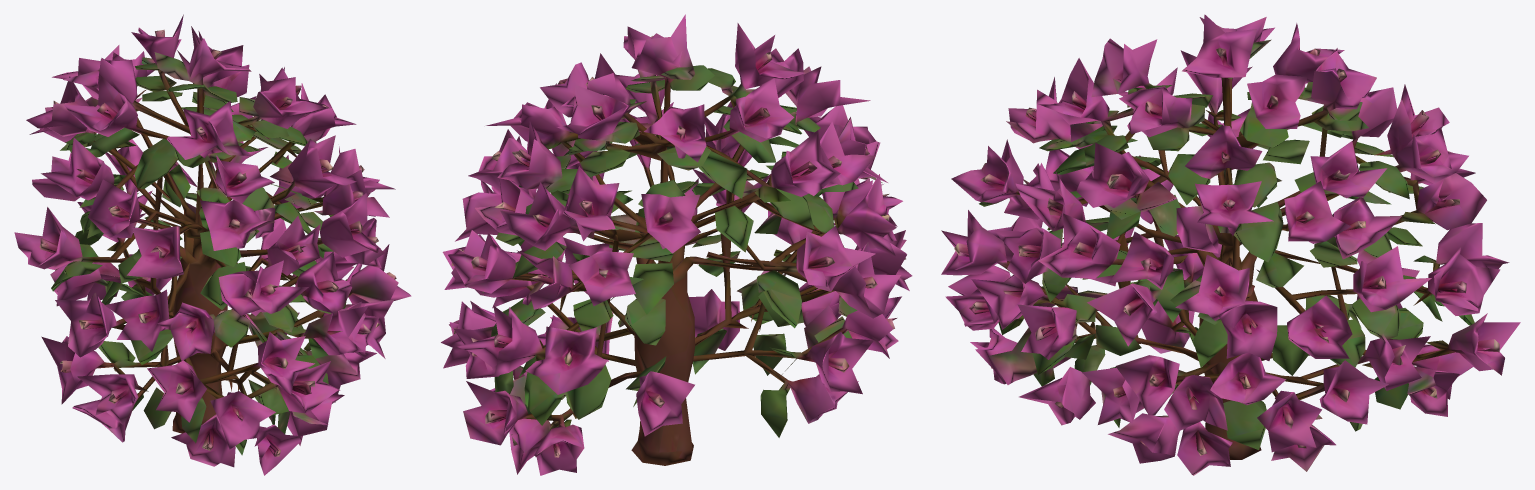
The model's file is bougainvillea.glb.
The picture shows the model from 3 angles, left to right: view 1: azimuth 30°, elevation 25°; view 2: azimuth 150°, elevation 25°; view 3: azimuth 270°, elevation 25°; orthographic projection. The views are drawn at different scales.
Parts seen in each view (by area): view 1: tripo_node_40c0e378-185d-42c8-b7ea-cbe3f90f396a; view 2: tripo_node_40c0e378-185d-42c8-b7ea-cbe3f90f396a; view 3: tripo_node_40c0e378-185d-42c8-b7ea-cbe3f90f396a.
Part boxes in pixels (x1,y1,x2,y2): tripo_node_40c0e378-185d-42c8-b7ea-cbe3f90f396a: [14, 14, 411, 475]; tripo_node_40c0e378-185d-42c8-b7ea-cbe3f90f396a: [441, 14, 912, 475]; tripo_node_40c0e378-185d-42c8-b7ea-cbe3f90f396a: [941, 14, 1520, 475].
Size of the model in its own units: 0.7456 by 0.8 by 0.9795.
1 material, 1 textured.
